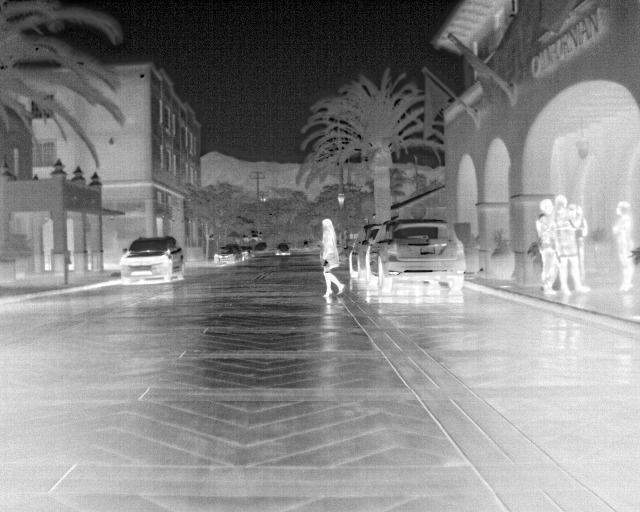bicycle: (377, 220, 467, 304), (117, 236, 185, 285), (350, 222, 380, 291), (358, 226, 380, 300), (211, 246, 241, 264), (275, 240, 293, 257)
empty: (552, 197, 590, 298), (612, 198, 638, 294), (533, 201, 557, 298), (320, 218, 347, 299), (563, 202, 585, 272)
